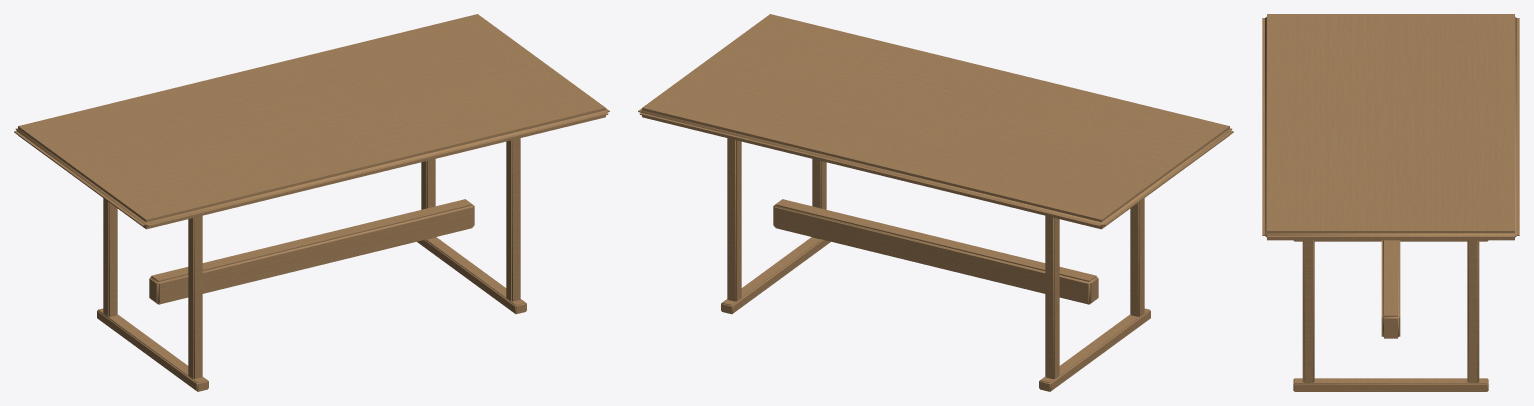
Rendered from country.dining_table.gltf.
3 renders of one model, left to right at view 1: azimuth 30°, elevation 25°; view 2: azimuth 150°, elevation 25°; view 3: azimuth 270°, elevation 25°, orthographic. The views are drawn at different scales.
Parts seen in each view (by area): view 1: country.dining_table.rounded-top; view 2: country.dining_table.rounded-top; view 3: country.dining_table.rounded-top.
Boxes of the visible parts, x1,y1,x2,y2 form: country.dining_table.rounded-top: (14,14,609,391); country.dining_table.rounded-top: (638,14,1233,391); country.dining_table.rounded-top: (1262,14,1519,391).
Size of the model in its own units: 1.85 by 0.75 by 0.91.
1 material, 1 textured.
